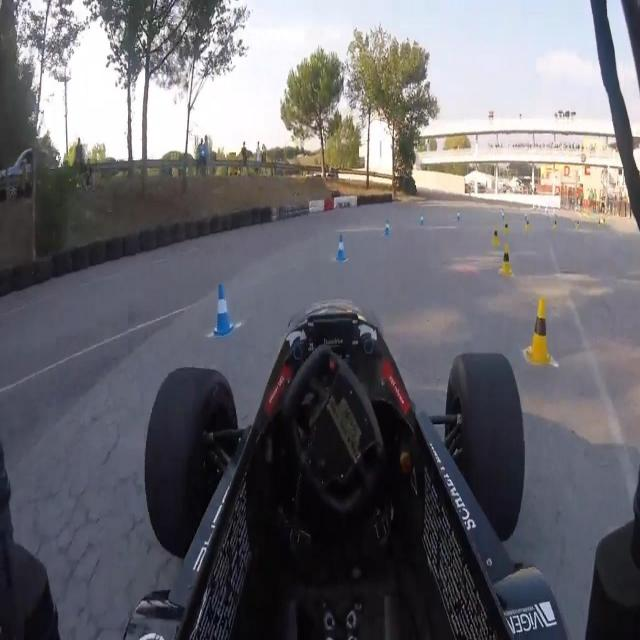blue_cone: (212, 281, 235, 338), (333, 230, 349, 265), (384, 217, 391, 237), (418, 212, 424, 230)
yellow_cone: (526, 293, 554, 368), (498, 243, 514, 278), (491, 223, 500, 249), (502, 217, 511, 241), (524, 215, 532, 237)
